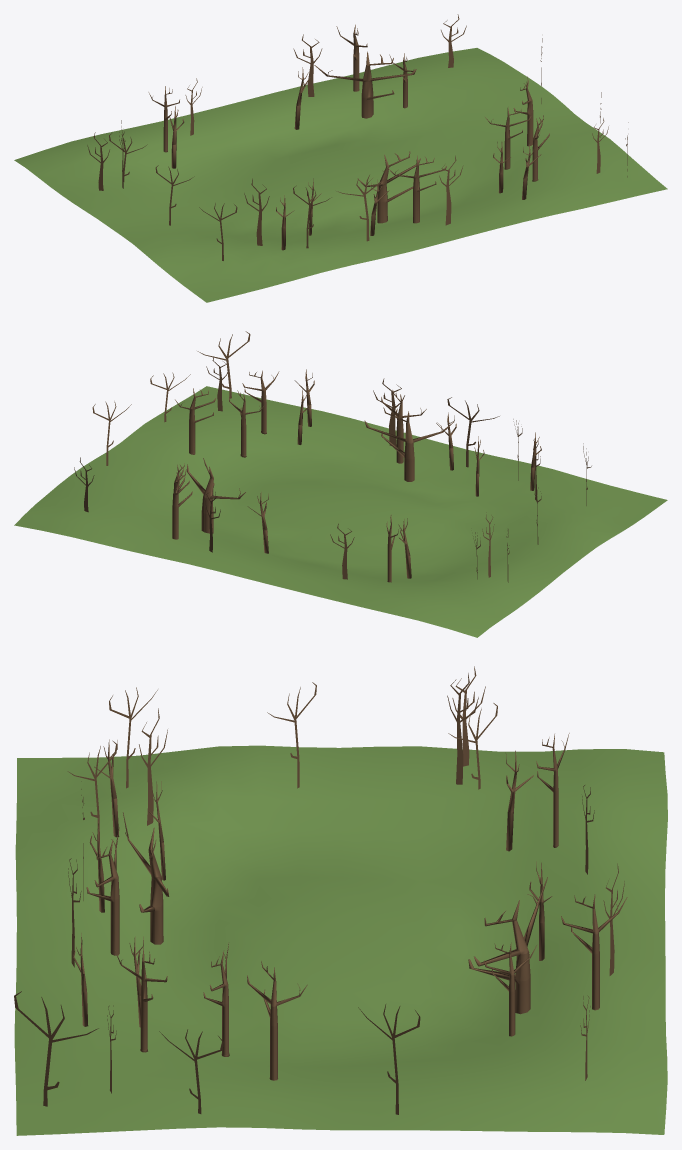
File: forest.glb
3 views of the same model, one above another, from view 1: azimuth 30°, elevation 25°; view 2: azimuth 150°, elevation 25°; view 3: azimuth 270°, elevation 25° (orthographic). The views are drawn at different scales.
Visible parts, largest first — view 1: Ground, Trees; view 2: Ground, Trees; view 3: Ground, Trees.
Part boxes in pixels (x1,y1,x2,y2): Ground: (14, 48, 667, 302); Trees: (87, 14, 628, 260); Ground: (14, 386, 667, 637); Trees: (74, 331, 591, 582); Ground: (14, 745, 667, 1135); Trees: (14, 666, 627, 1114).
Size of the model in its own units: 28 by 4.66 by 20.02.
